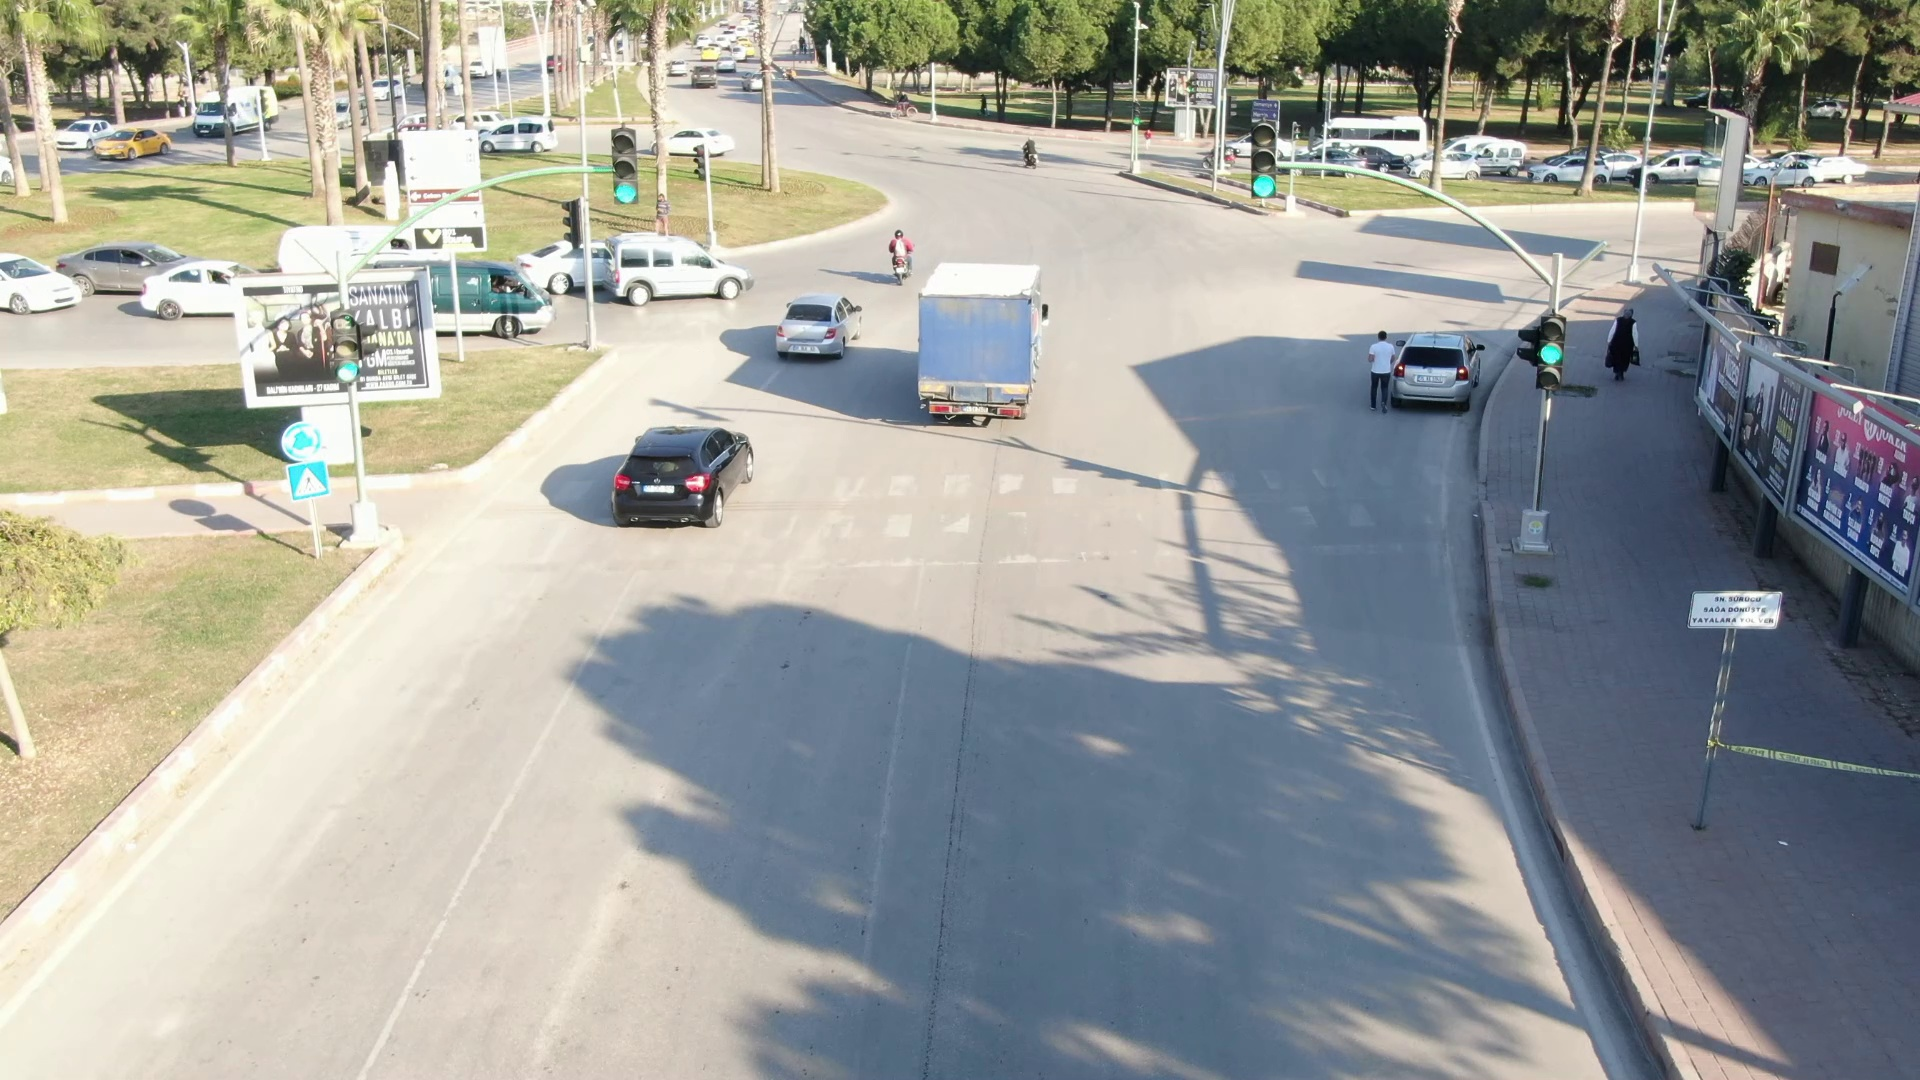car: (590, 404, 758, 539), (43, 239, 256, 328), (599, 221, 762, 308), (428, 258, 562, 336), (756, 274, 860, 362), (58, 112, 175, 165), (188, 84, 293, 143), (1536, 147, 1634, 197), (480, 108, 556, 156)
person: (1355, 325, 1404, 417), (1597, 302, 1649, 381)
